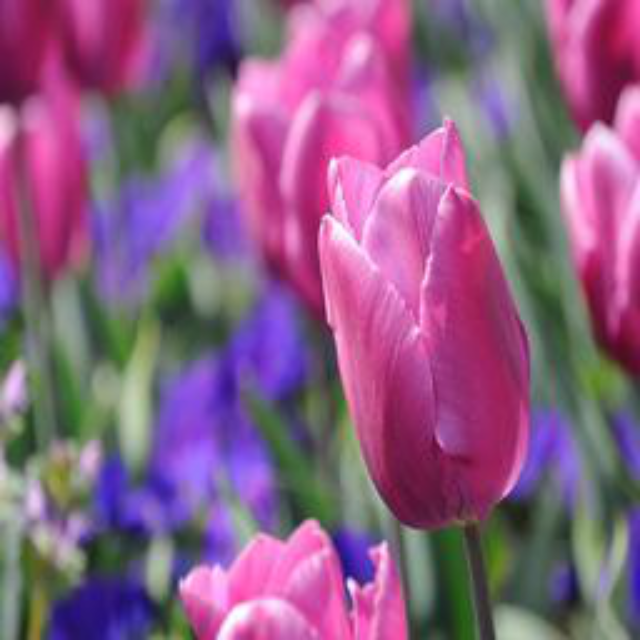tulip: (303, 115, 535, 528), (226, 6, 417, 329), (174, 517, 416, 638), (555, 79, 639, 378)
